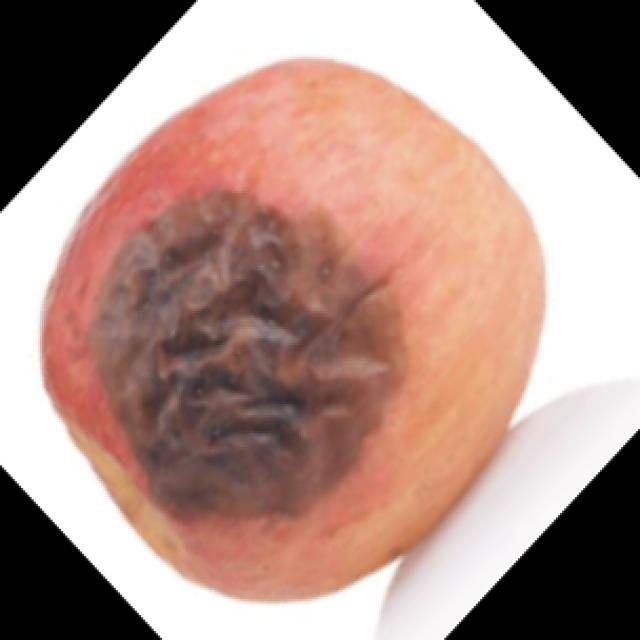Rotten: (71, 61, 536, 602)
